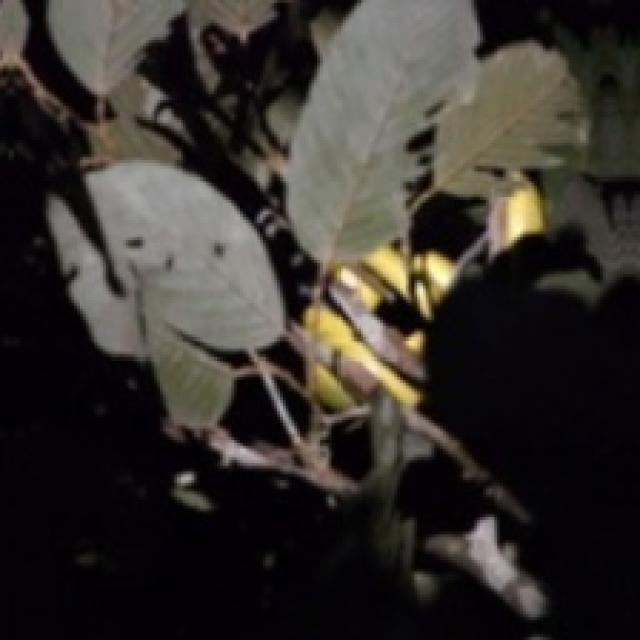red-tailed green ratsnake: (302, 302, 421, 407), (330, 244, 461, 321), (488, 184, 544, 256), (309, 360, 354, 411), (402, 330, 426, 357)
